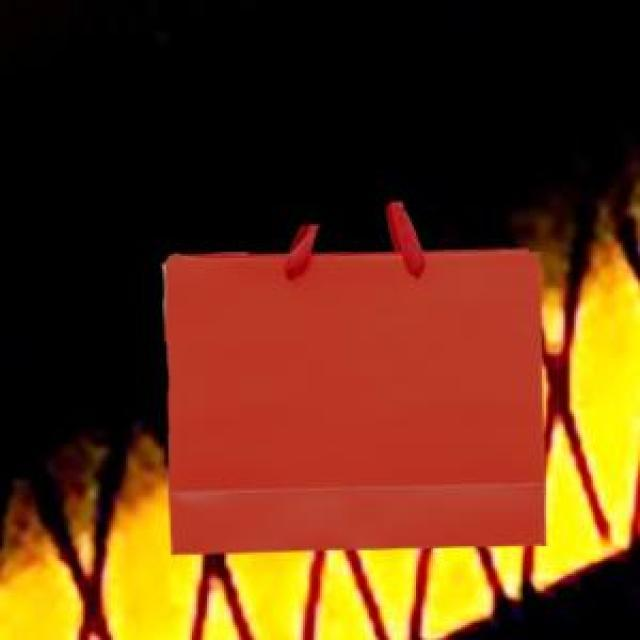Paper_Bag: (160, 199, 542, 552)
